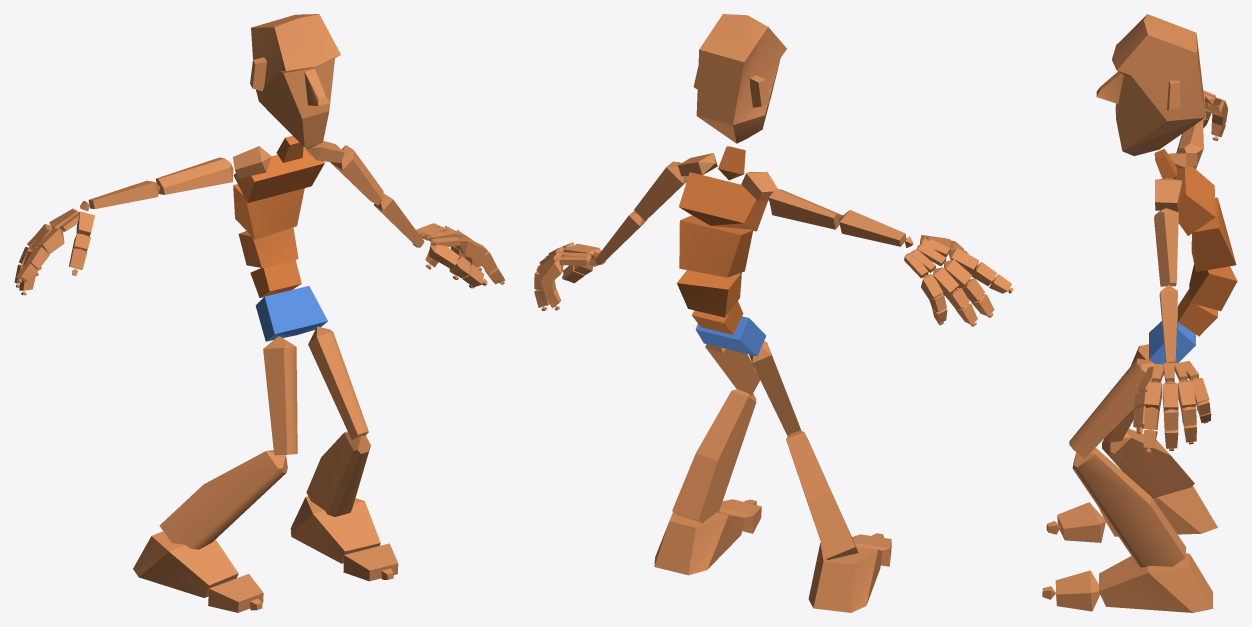
3 views of the same model, side by side, from view 1: azimuth 30°, elevation 25°; view 2: azimuth 150°, elevation 25°; view 3: azimuth 270°, elevation 25° (orthographic). The views are drawn at different scales.
Visible parts, largest first — view 1: BOPED_Head, BOPED_R_leg, BOPED_R_foot, BOPED_R_foot01, BOPED_L_leg, BOPED_R_legup, BOPED_L_legup, Bone01, Bone04, Bone05, BOPED_R_arm_upper, Bone03 (+7 smaller); view 2: BOPED_Head, BOPED_L_leg, BOPED_R_foot01, BOPED_R_foot, BOPED_R_leg, Bone04, Bone05, Bone03, BOPED_R_legup, BOPED_R_arm_upper, Bone01, BOPED_L_legup (+8 smaller); view 3: BOPED_Head, BOPED_L_leg, BOPED_R_foot01, BOPED_R_leg, BOPED_L_legup, BOPED_R_foot, Bone05, Bone04, Bone03, BOPED_L_arm_upper, BOPED_R_foot_toe01, BOPED_R_foot_toe04 (+15 smaller).
Part boxes in pixels (bbox=[...]): BOPED_Head: bbox=[250, 14, 340, 148]; BOPED_R_leg: bbox=[159, 450, 287, 549]; BOPED_R_foot: bbox=[133, 531, 238, 597]; BOPED_R_foot01: bbox=[290, 496, 380, 563]; BOPED_L_leg: bbox=[306, 431, 370, 516]; BOPED_R_legup: bbox=[263, 336, 297, 455]; BOPED_L_legup: bbox=[308, 326, 368, 439]; Bone01: bbox=[255, 286, 327, 341]; Bone04: bbox=[233, 184, 304, 239]; Bone05: bbox=[233, 147, 324, 202]; BOPED_R_arm_upper: bbox=[156, 157, 233, 194]; Bone03: bbox=[238, 227, 298, 267]; BOPED_Head: bbox=[693, 14, 786, 143]; BOPED_L_leg: bbox=[672, 389, 756, 523]; BOPED_R_foot01: bbox=[654, 512, 744, 575]; BOPED_R_foot: bbox=[808, 542, 882, 612]; BOPED_R_leg: bbox=[786, 430, 858, 560]; Bone04: bbox=[679, 215, 752, 277]; Bone05: bbox=[679, 172, 767, 231]; Bone03: bbox=[677, 270, 741, 317]; BOPED_R_legup: bbox=[749, 341, 801, 435]; BOPED_R_arm_upper: bbox=[769, 189, 842, 229]; Bone01: bbox=[695, 316, 765, 356]; BOPED_L_legup: bbox=[705, 344, 759, 395]; BOPED_Head: bbox=[1096, 14, 1204, 155]; BOPED_L_leg: bbox=[1072, 448, 1186, 567]; BOPED_R_foot01: bbox=[1099, 553, 1212, 612]; BOPED_R_leg: bbox=[1102, 428, 1194, 499]; BOPED_L_legup: bbox=[1069, 358, 1154, 457]; BOPED_R_foot: bbox=[1099, 486, 1217, 536]; Bone05: bbox=[1176, 166, 1215, 235]; Bone04: bbox=[1191, 197, 1236, 271]; Bone03: bbox=[1189, 264, 1237, 310]; BOPED_L_arm_upper: bbox=[1154, 208, 1178, 286]; BOPED_R_foot_toe01: bbox=[1057, 502, 1105, 542]; BOPED_R_foot_toe04: bbox=[1055, 570, 1100, 611].
Size of the model in its own units: 166 by 178 by 56.5.
